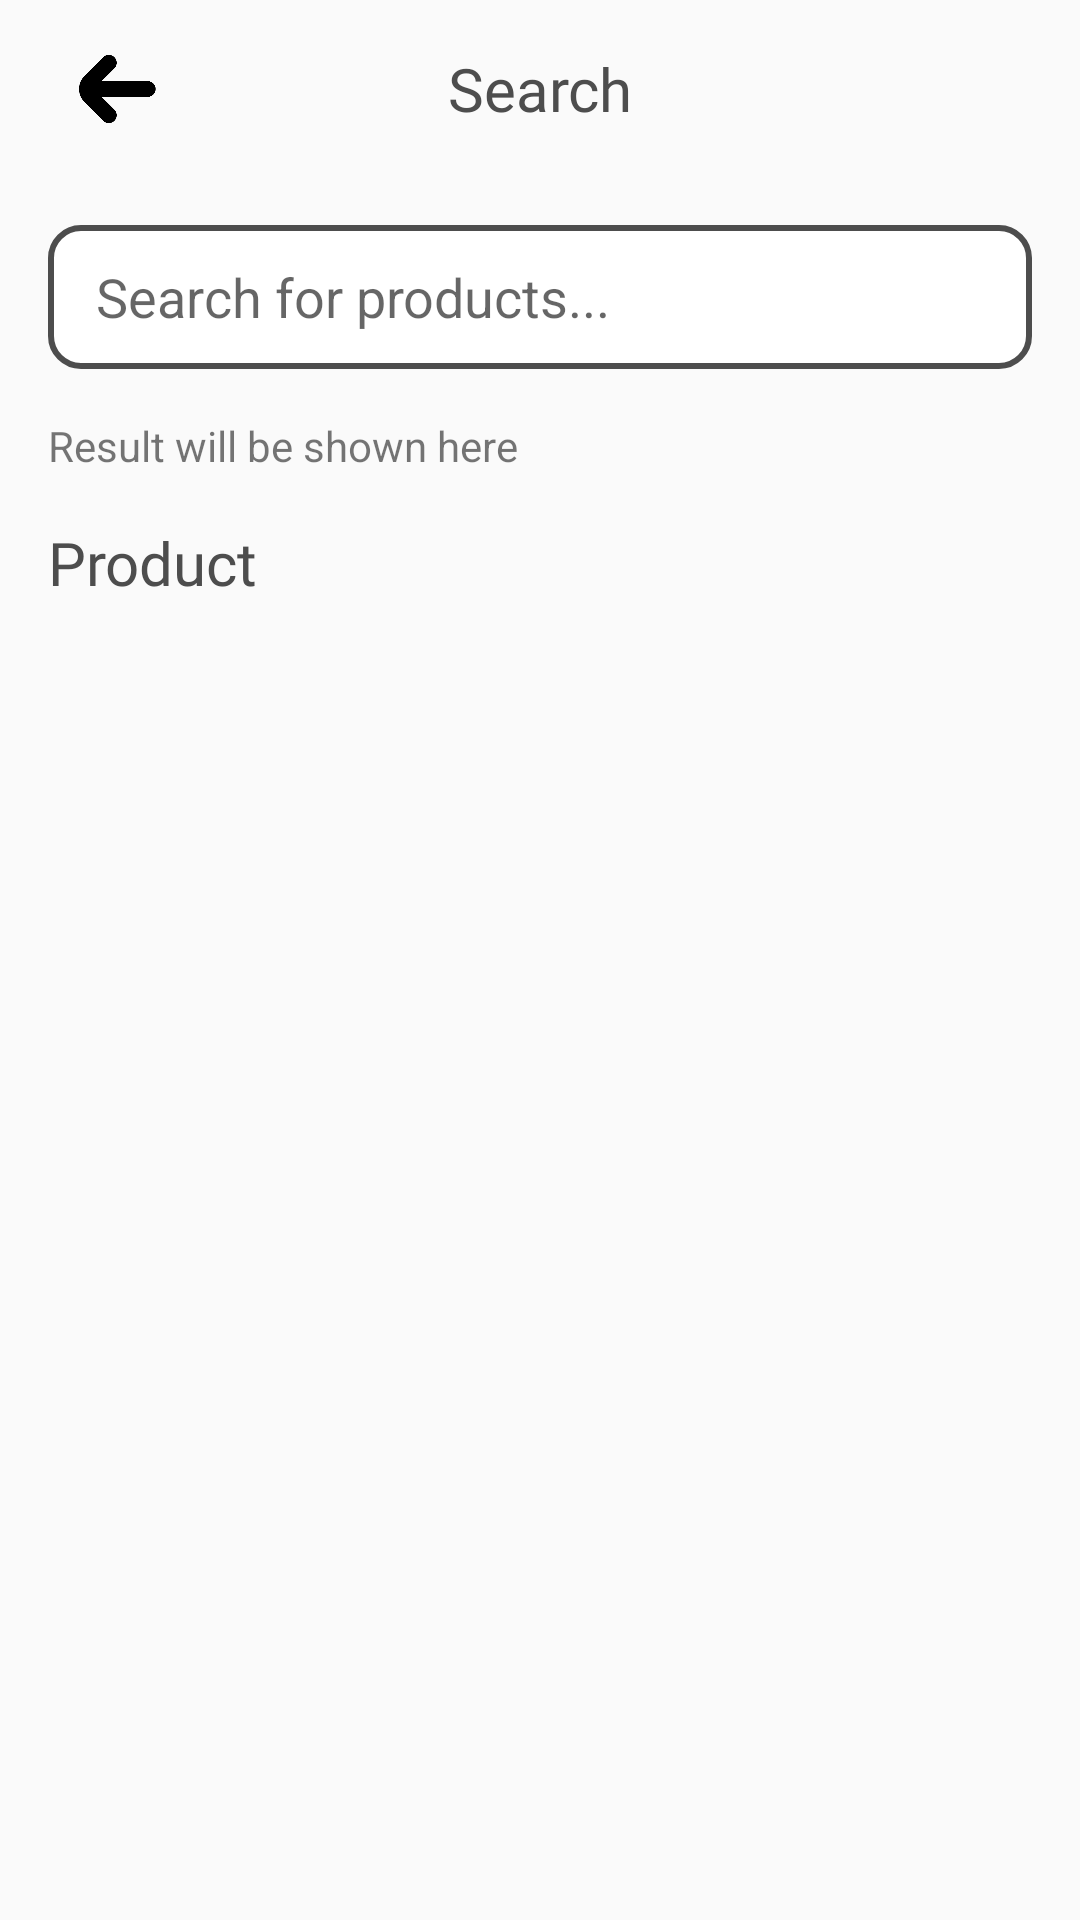

Named icons in this screenshot (1080px×1920px) and their centers, point (x, y):
back: point (117, 89)
